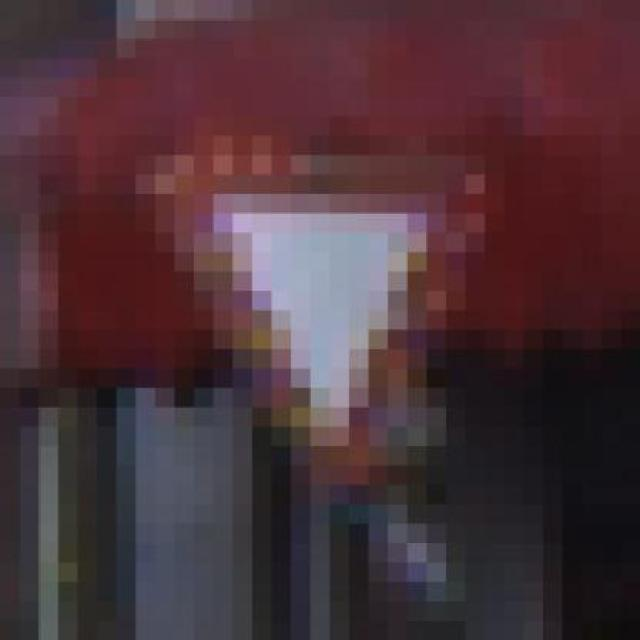Give Way: (116, 97, 582, 505)
